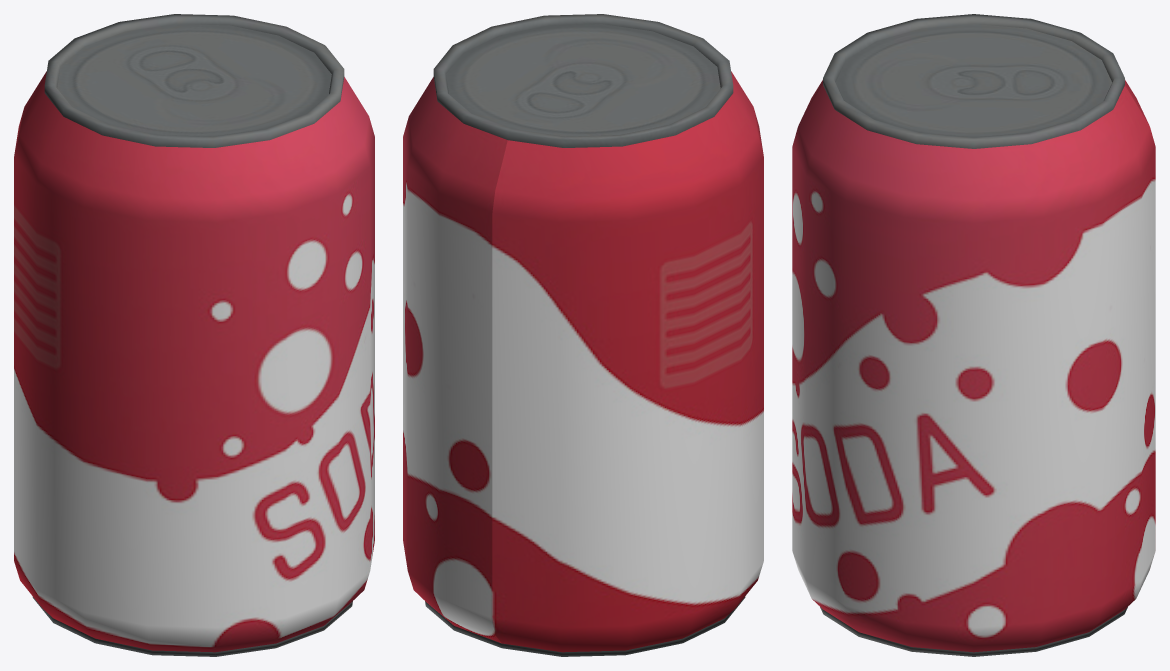
File: SodaCan_1.fbx
3 renders of one model, left to right at view 1: azimuth 30°, elevation 25°; view 2: azimuth 150°, elevation 25°; view 3: azimuth 270°, elevation 25°, orthographic.
Parts seen in each view (by area): view 1: SodaCan_1; view 2: SodaCan_1; view 3: SodaCan_1.
Boxes of the visible parts, <box> form: SodaCan_1: <box>14,14,374,656</box>; SodaCan_1: <box>403,14,763,656</box>; SodaCan_1: <box>792,14,1155,656</box>.
Bounding box in the file's own units: 37.34 × 57.89 × 37.34.
1 material, 1 textured.
